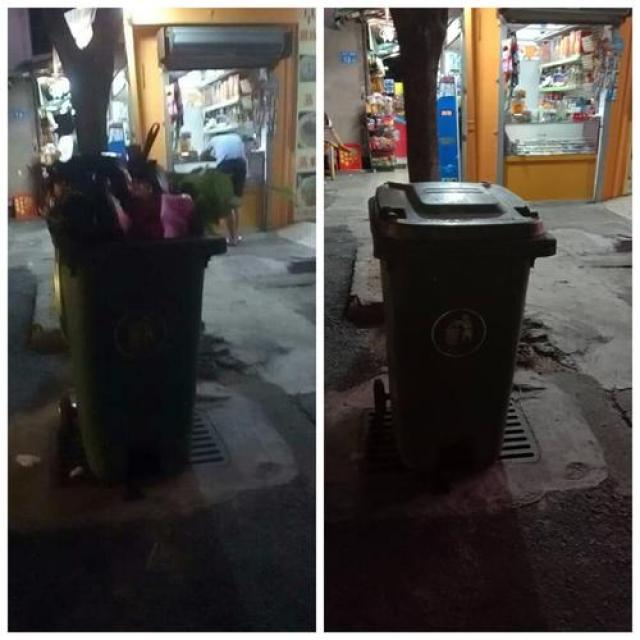garbage_bin: (369, 184, 554, 458)
overflow: (44, 122, 226, 480)
